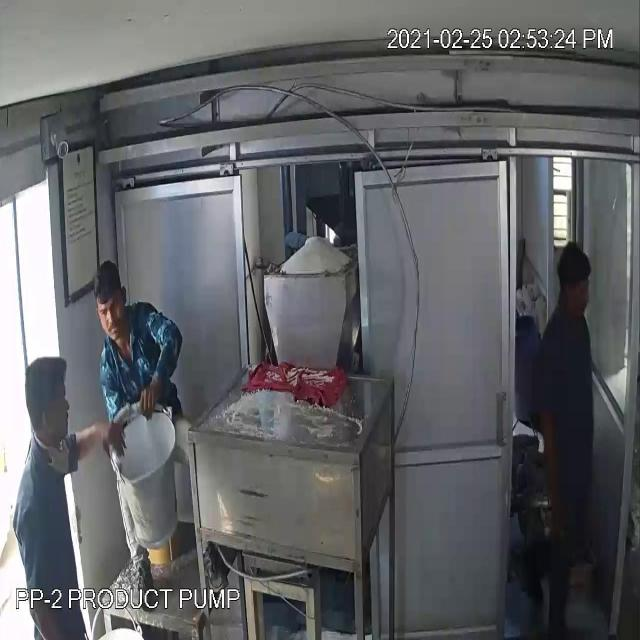no-helmet: (88, 256, 135, 318), (24, 360, 74, 407)
